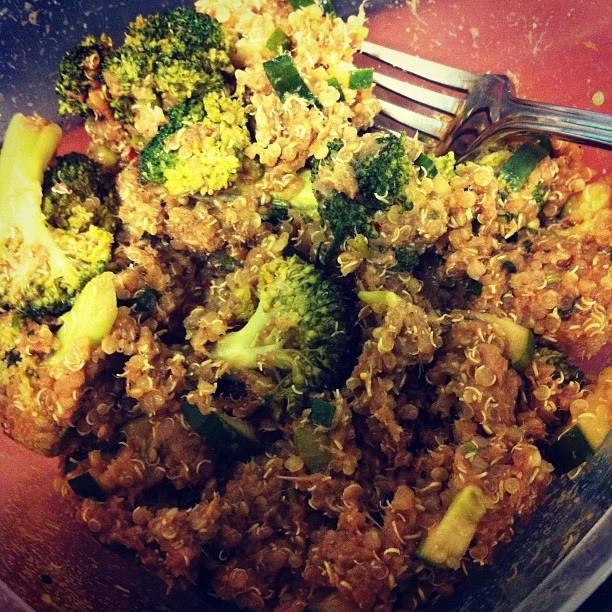broccoli: (1, 112, 115, 319), (210, 254, 365, 392), (137, 86, 255, 196), (38, 272, 118, 367), (43, 152, 123, 234), (54, 32, 116, 127), (350, 131, 414, 214), (152, 42, 230, 102), (317, 192, 380, 246), (149, 5, 222, 50)
